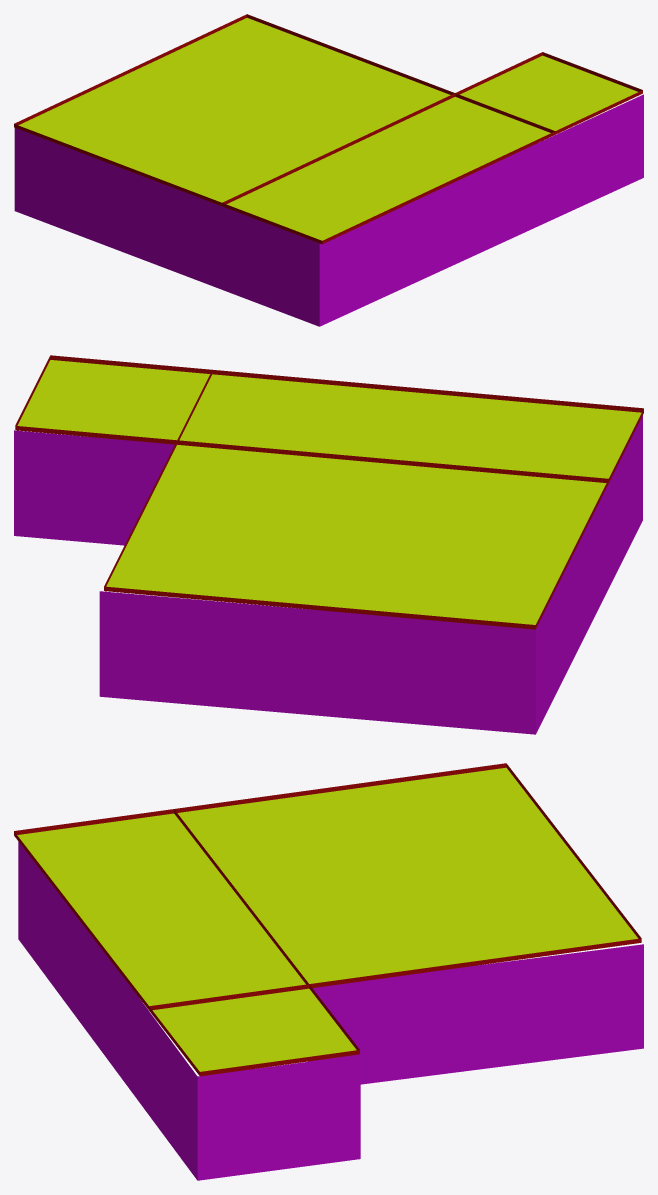
The model's file is scl_35.glb.
3 views of the same model, one above another, from view 1: azimuth 30°, elevation 25°; view 2: azimuth 150°, elevation 25°; view 3: azimuth 270°, elevation 25° (orthographic). The views are drawn at different scales.
Visible parts, largest first — view 1: scl_35; view 2: scl_35; view 3: scl_35.
Part boxes in pixels (bbox=[...]): scl_35: bbox=[14, 14, 643, 326]; scl_35: bbox=[14, 355, 643, 734]; scl_35: bbox=[14, 763, 643, 1180].
Size of the model in its own units: 51.61 by 8.48 by 44.49.
